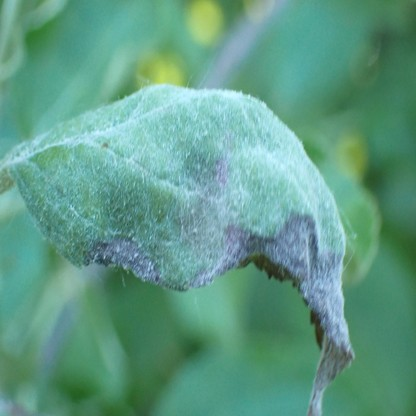powdery_mildew: (7, 81, 356, 416)
